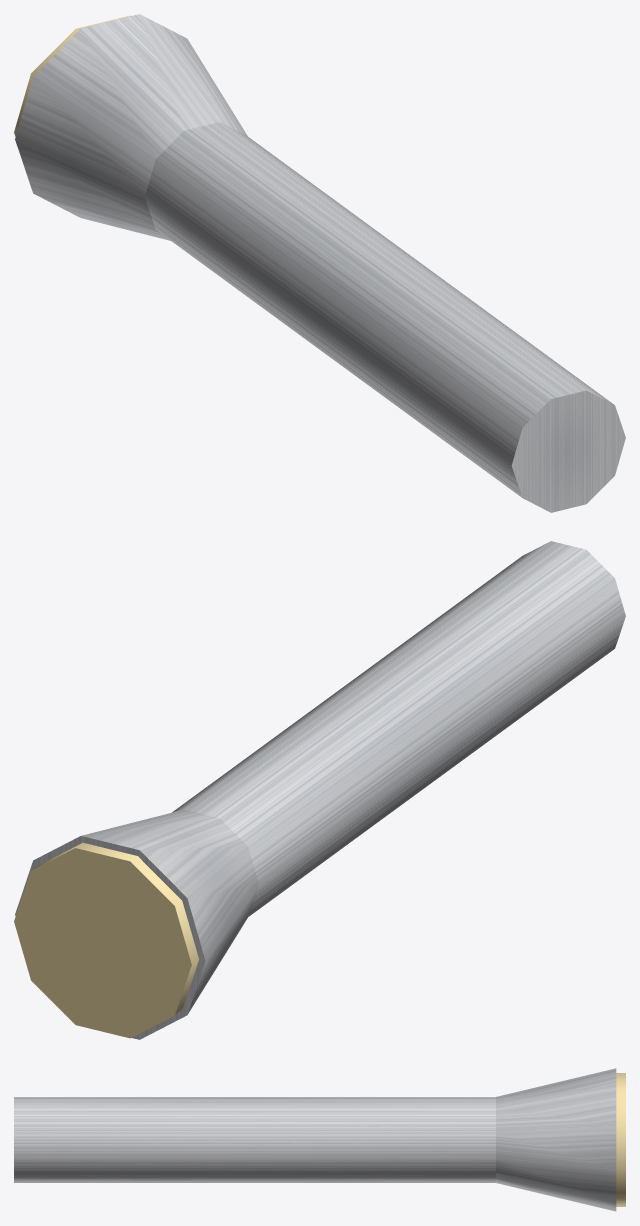
File: acc_torch.obj
The picture shows the model from 3 angles, top to bottom: view 1: azimuth 30°, elevation 25°; view 2: azimuth 150°, elevation 25°; view 3: azimuth 270°, elevation 25°; orthographic projection. The views are drawn at different scales.
Parts seen in each view (by area): view 1: acc_torch; view 2: acc_torch; view 3: acc_torch.
Part boxes in pixels (x1=…): acc_torch: x1=14, y1=14, x2=625, y2=512; acc_torch: x1=14, y1=541, x2=625, y2=1039; acc_torch: x1=14, y1=1068, x2=625, y2=1211.
Size of the model in its own units: 0.06 by 0.0571 by 0.254.
2 materials, 1 textured.
